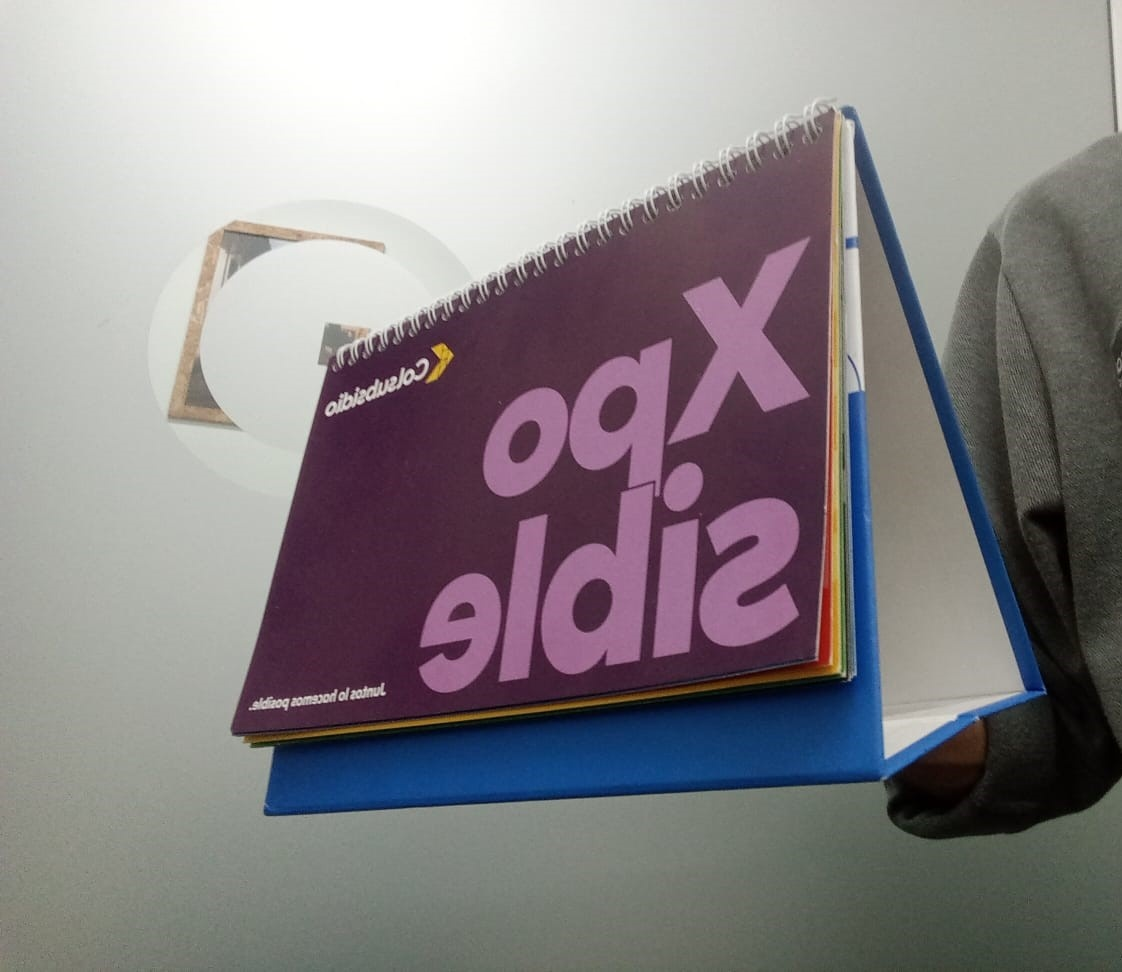Carton: (233, 108, 1045, 816), (637, 758, 649, 817)
